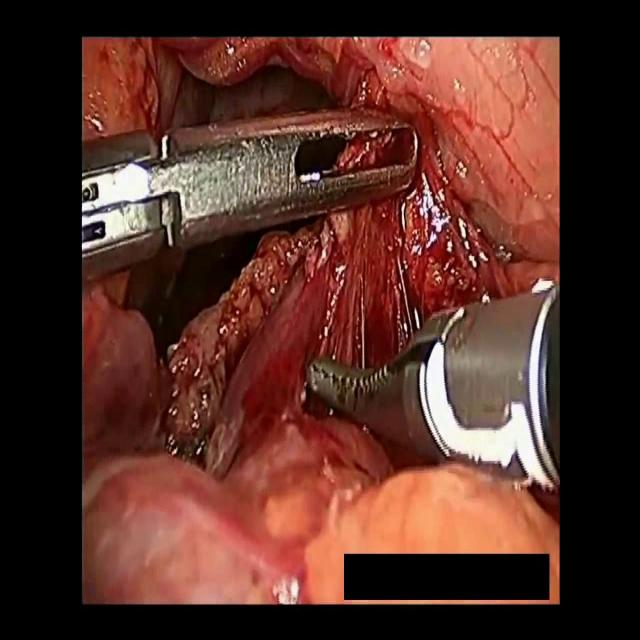surgical-area: (82, 32, 561, 603)
surgical-tool: (83, 104, 418, 281), (306, 281, 561, 495)
